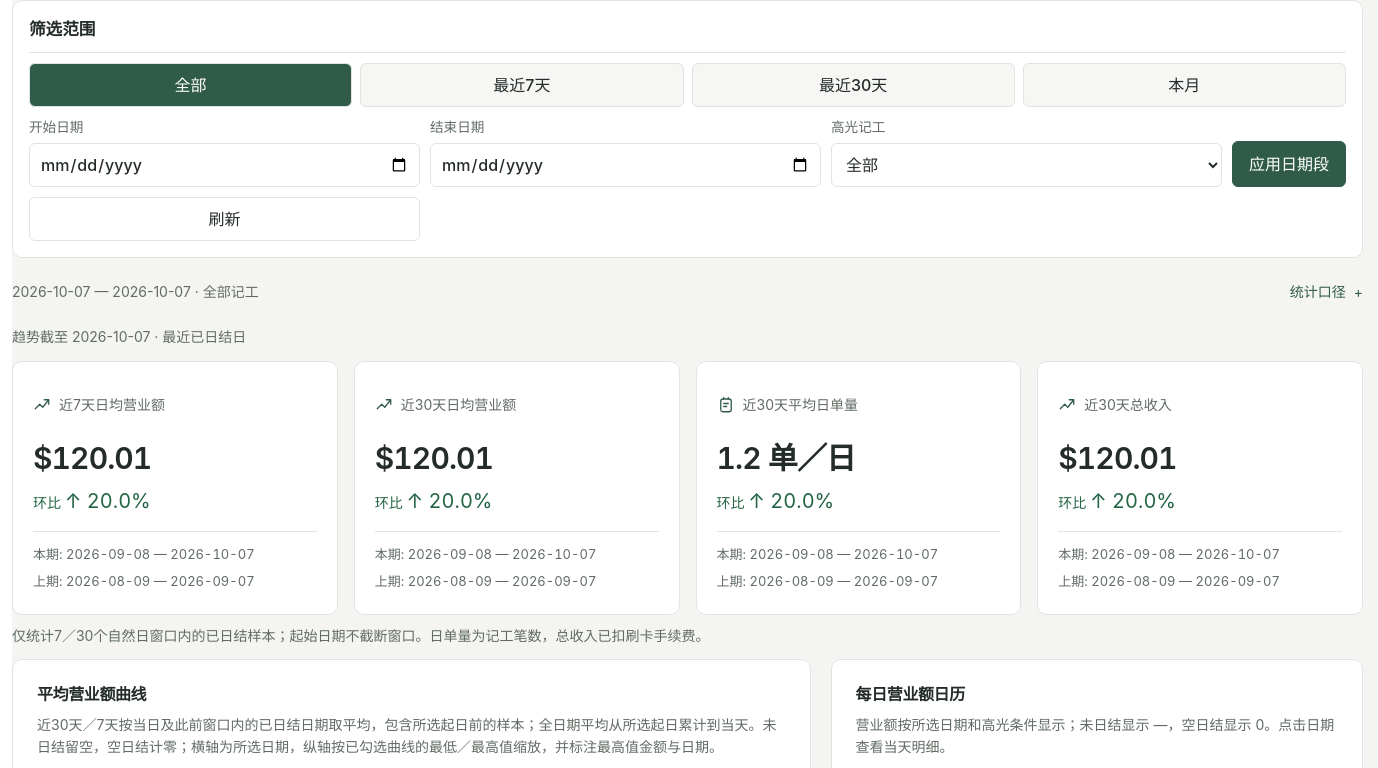
趋势不等待每日小计，失败后仍可手动刷新图表和小计
This screenshot has width=1378, height=768.
Expected: the element that starts with "近7天日均营业额" shows "$120.01", [33, 440, 151, 476]
Click the button "刷新". click: [224, 219]
box: [29, 197, 420, 241]
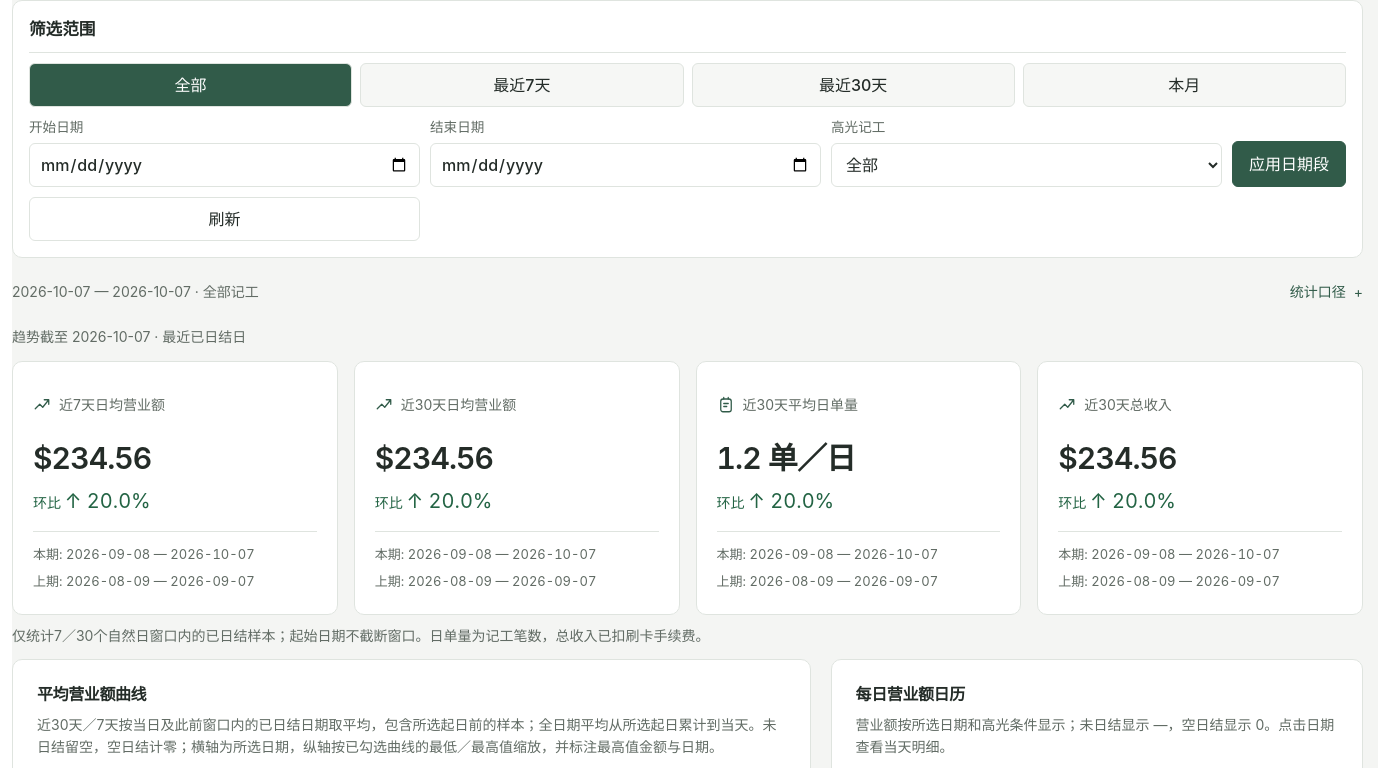
Now the element that starts with "近7天日均营业额" shows "$234.56", box [33, 440, 151, 476]
